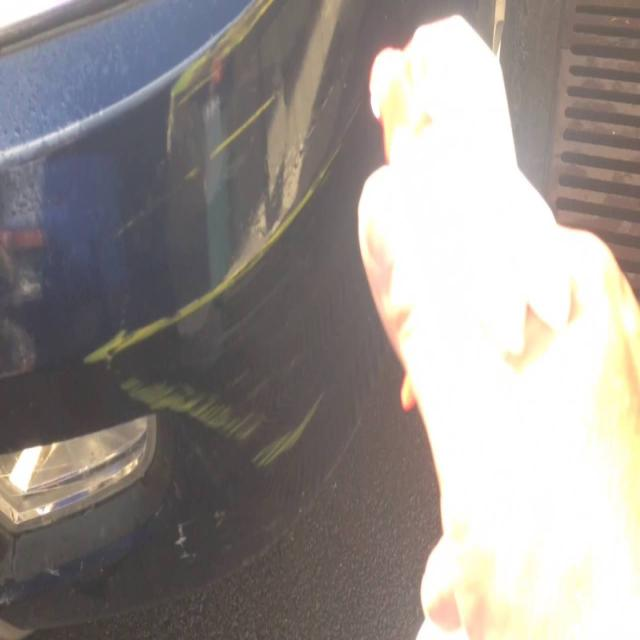scratch: (83, 92, 364, 484), (110, 0, 286, 249), (173, 521, 198, 566)
